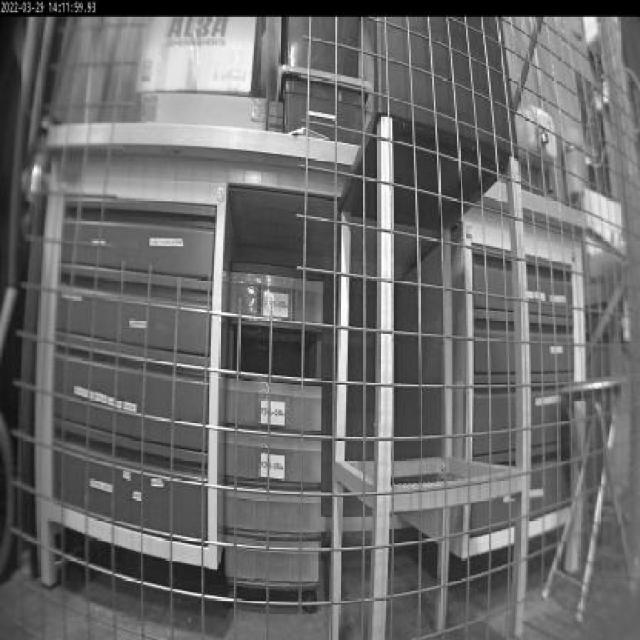fence line: (119, 18, 313, 342)
